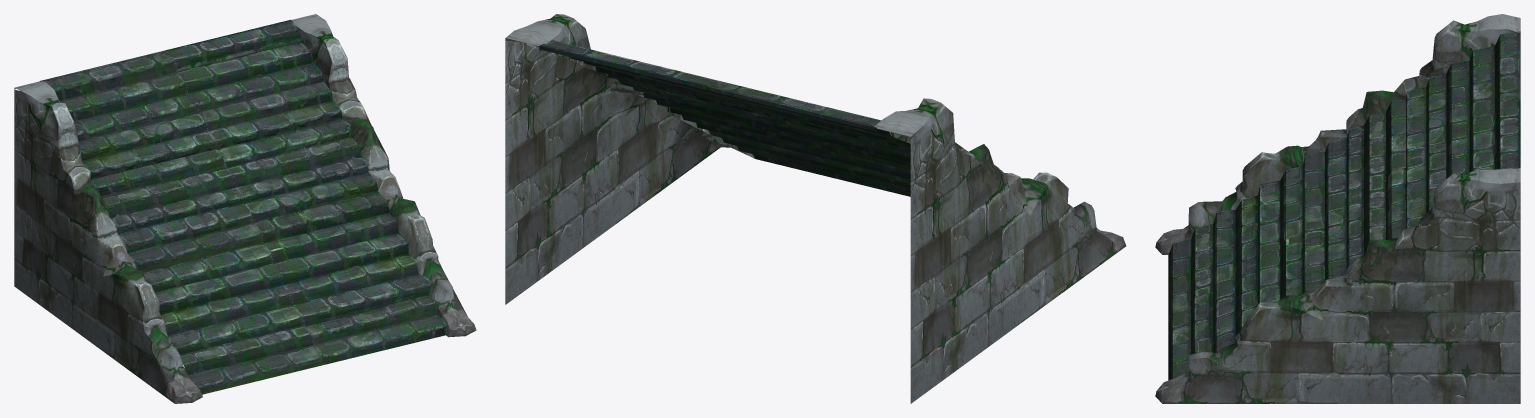
Rendered from stemple_wall_stair_02.fbx.
The picture shows the model from 3 angles, left to right: view 1: azimuth 30°, elevation 25°; view 2: azimuth 150°, elevation 25°; view 3: azimuth 270°, elevation 25°; orthographic projection. The views are drawn at different scales.
Visible parts, largest first — view 1: stemple_wall_stair_02-0; view 2: stemple_wall_stair_02-0; view 3: stemple_wall_stair_02-0.
Part boxes in pixels (x1=…): stemple_wall_stair_02-0: x1=14, y1=14, x2=476, y2=403; stemple_wall_stair_02-0: x1=505, y1=14, x2=1126, y2=403; stemple_wall_stair_02-0: x1=1155, y1=14, x2=1520, y2=403.
Size of the model in its own units: 8.91 by 5.69 by 8.3.
